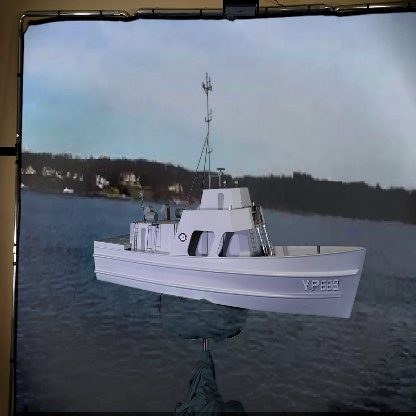YP689: (93, 70, 367, 323)
